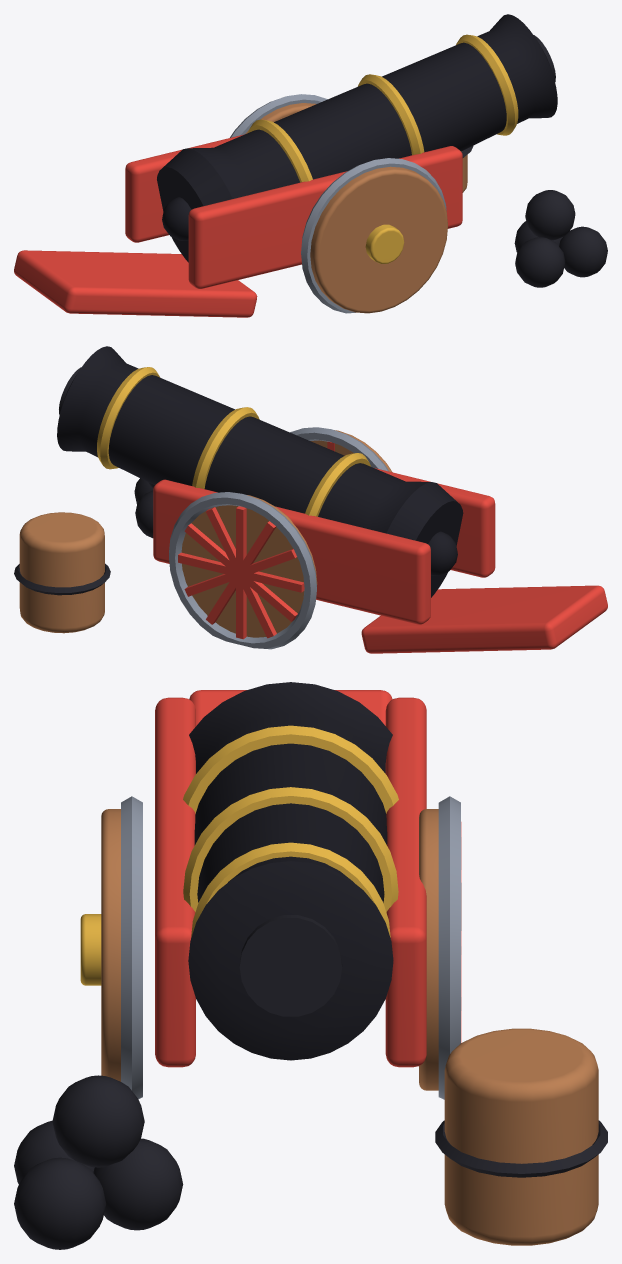
The model's file is cannon.glb.
The picture shows the model from 3 angles, top to bottom: view 1: azimuth 30°, elevation 25°; view 2: azimuth 150°, elevation 25°; view 3: azimuth 270°, elevation 25°; orthographic projection. The views are drawn at different scales.
Parts seen in each view (by area): view 1: cannon; view 2: cannon; view 3: cannon.
Part boxes in pixels (x1,y1,x2,y2): cannon: (14, 14, 607, 317); cannon: (14, 346, 607, 653); cannon: (14, 682, 607, 1249).
Size of the model in its own units: 4.15 by 1.65 by 2.32.
Materials: 1 (1 with a texture image).
